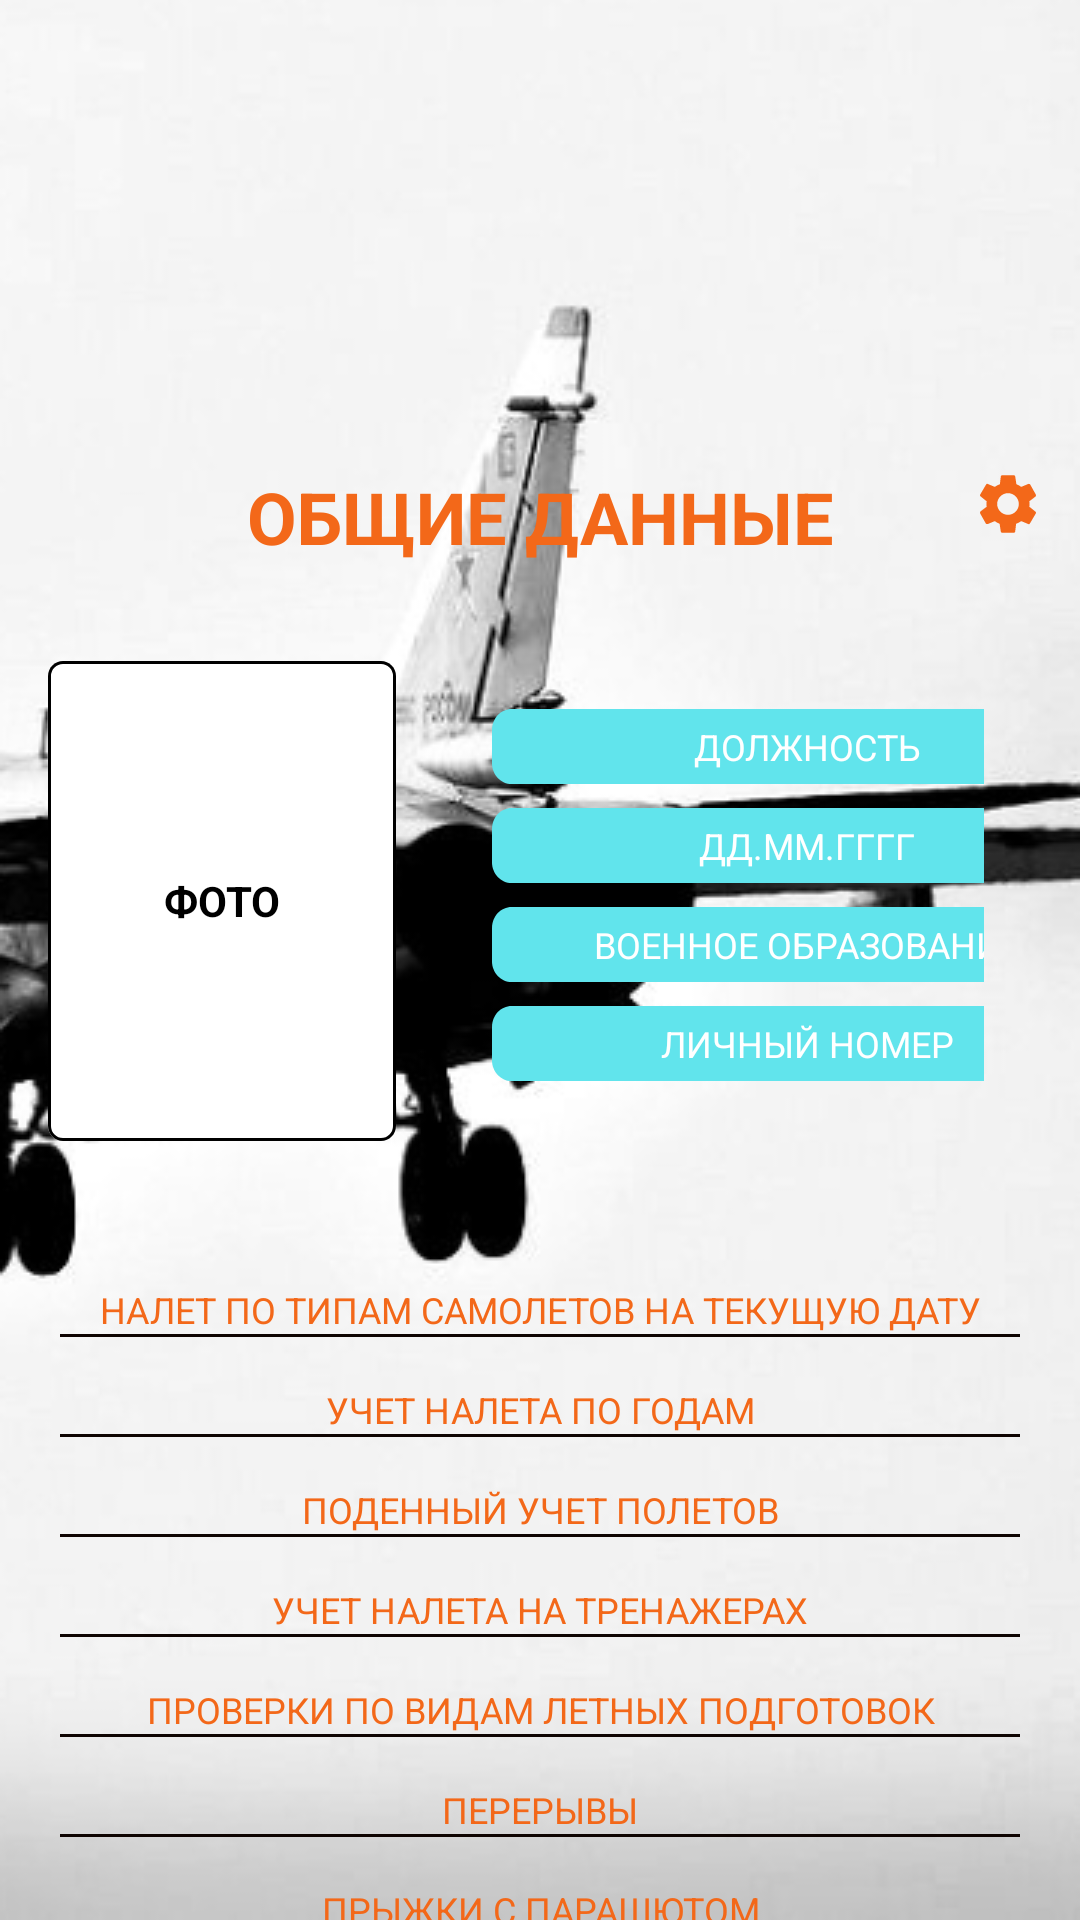

Screen size 1080*1920. Icon name, then its center in pixels as [x,y]:
Настройки: [1008,504]
